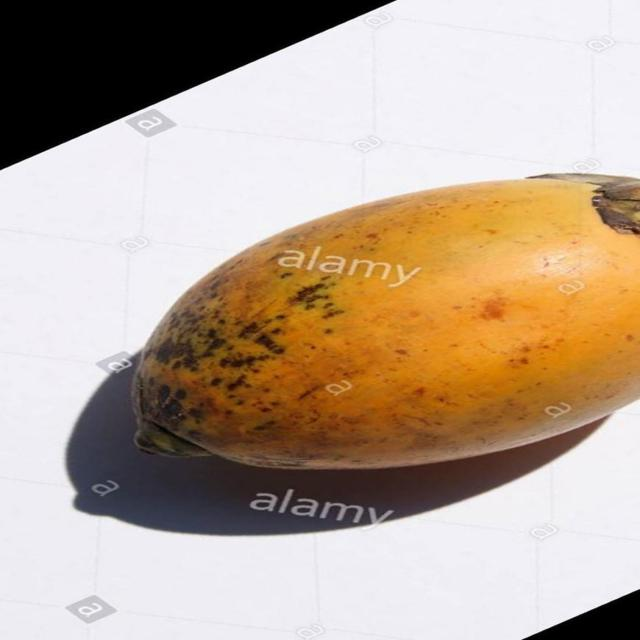good: (130, 175, 639, 473)
